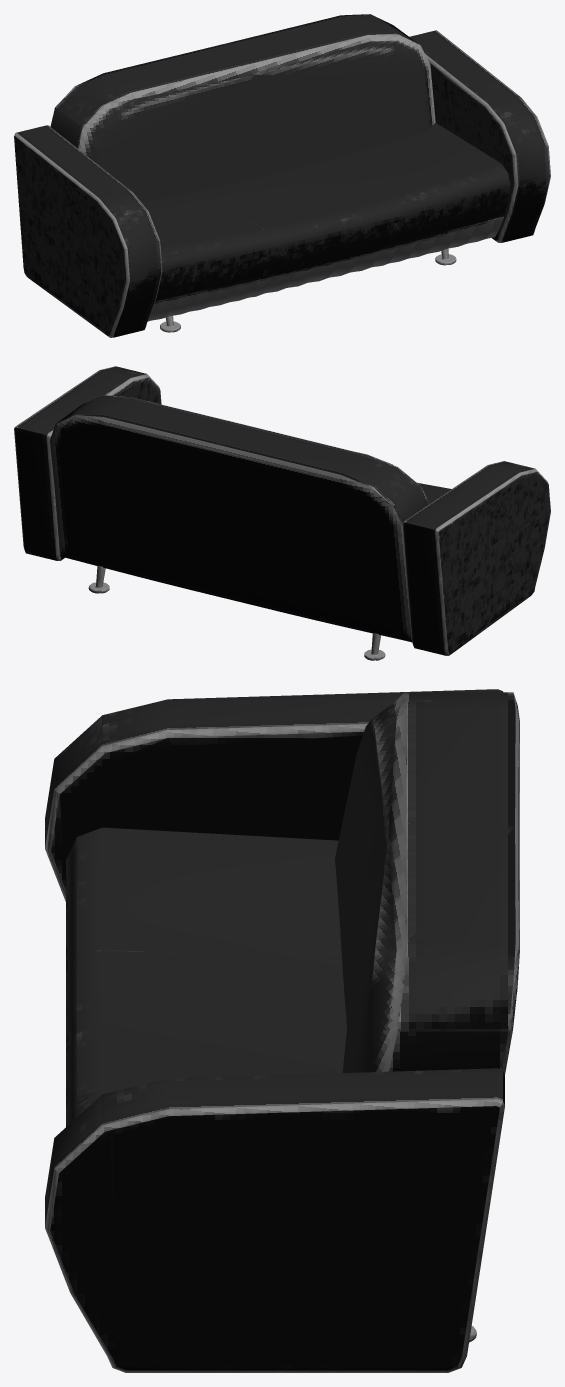
The model's file is sofa_retro.glb.
3 renders of one model, top to bottom at view 1: azimuth 30°, elevation 25°; view 2: azimuth 150°, elevation 25°; view 3: azimuth 270°, elevation 25°, orthographic. The views are drawn at different scales.
Visible parts, largest first — view 1: mesh; view 2: mesh; view 3: mesh.
Part boxes in pixels (x1,y1,x2,y2): mesh: (14, 14, 550, 337); mesh: (14, 366, 550, 660); mesh: (45, 689, 519, 1372).
Bounding box in the file's own units: 1.83 × 0.775 × 0.886.
Materials: 1 (1 with a texture image).
